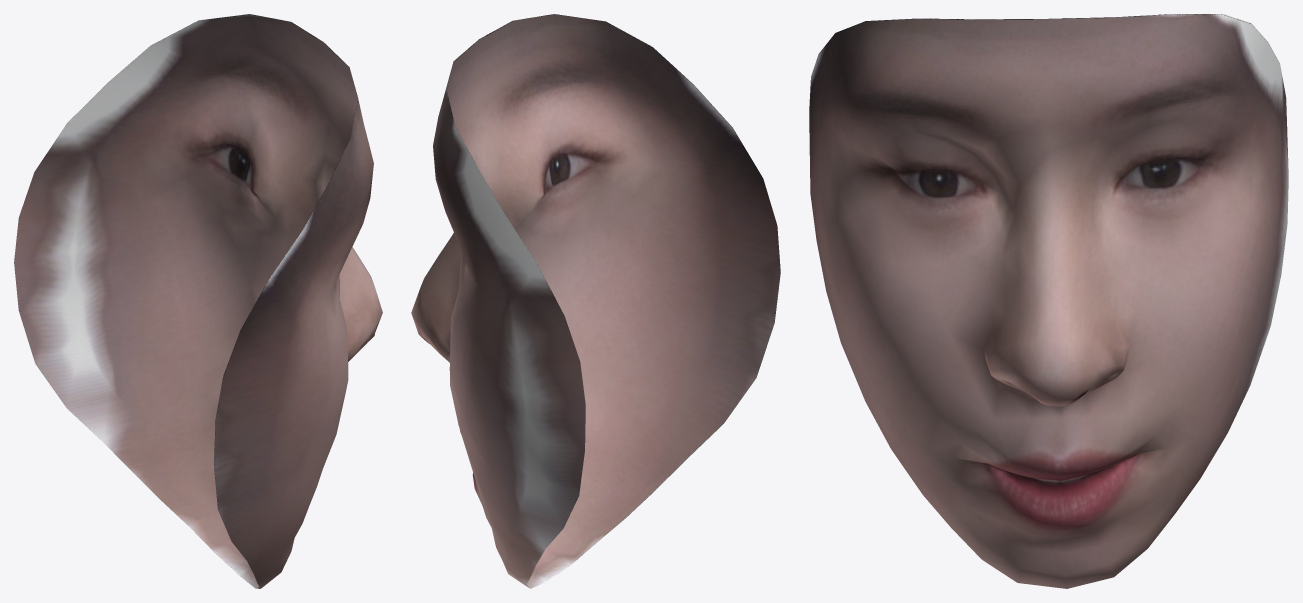
Rendered from afreecatv_lifestyle.glb.
3 views of the same model, side by side, from view 1: azimuth 30°, elevation 25°; view 2: azimuth 150°, elevation 25°; view 3: azimuth 270°, elevation 25° (orthographic). The views are drawn at different scales.
Parts seen in each view (by area): view 1: afreecatv_lifestyle; view 2: afreecatv_lifestyle; view 3: afreecatv_lifestyle.
Boxes of the visible parts, x1,y1,x2,y2 form: afreecatv_lifestyle: (14,14,382,588); afreecatv_lifestyle: (411,14,780,588); afreecatv_lifestyle: (809,14,1288,588).
Bounding box in the file's own units: 0.4534 × 0.8519 × 0.6044.
Materials: 1 (1 with a texture image).
